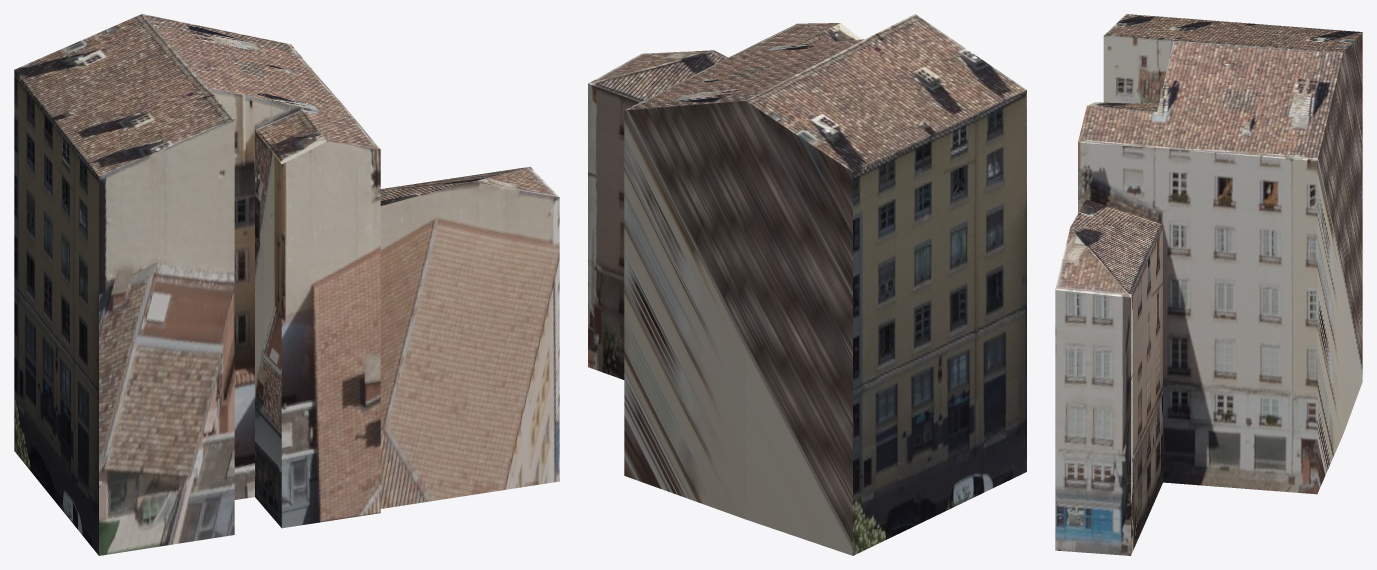
3 views of the same model, side by side, from view 1: azimuth 30°, elevation 25°; view 2: azimuth 150°, elevation 25°; view 3: azimuth 270°, elevation 25° (orthographic). The views are drawn at different scales.
Parts seen in each view (by area): view 1: Z_UP; view 2: Z_UP; view 3: Z_UP.
Boxes of the visible parts, x1,y1,x2,y2 form: Z_UP: (14,14,559,555); Z_UP: (588,14,1026,555); Z_UP: (1055,14,1362,555).
Size of the model in its own units: 28.93 by 26.51 by 19.37.
Materials: 2 (1 with a texture image).
